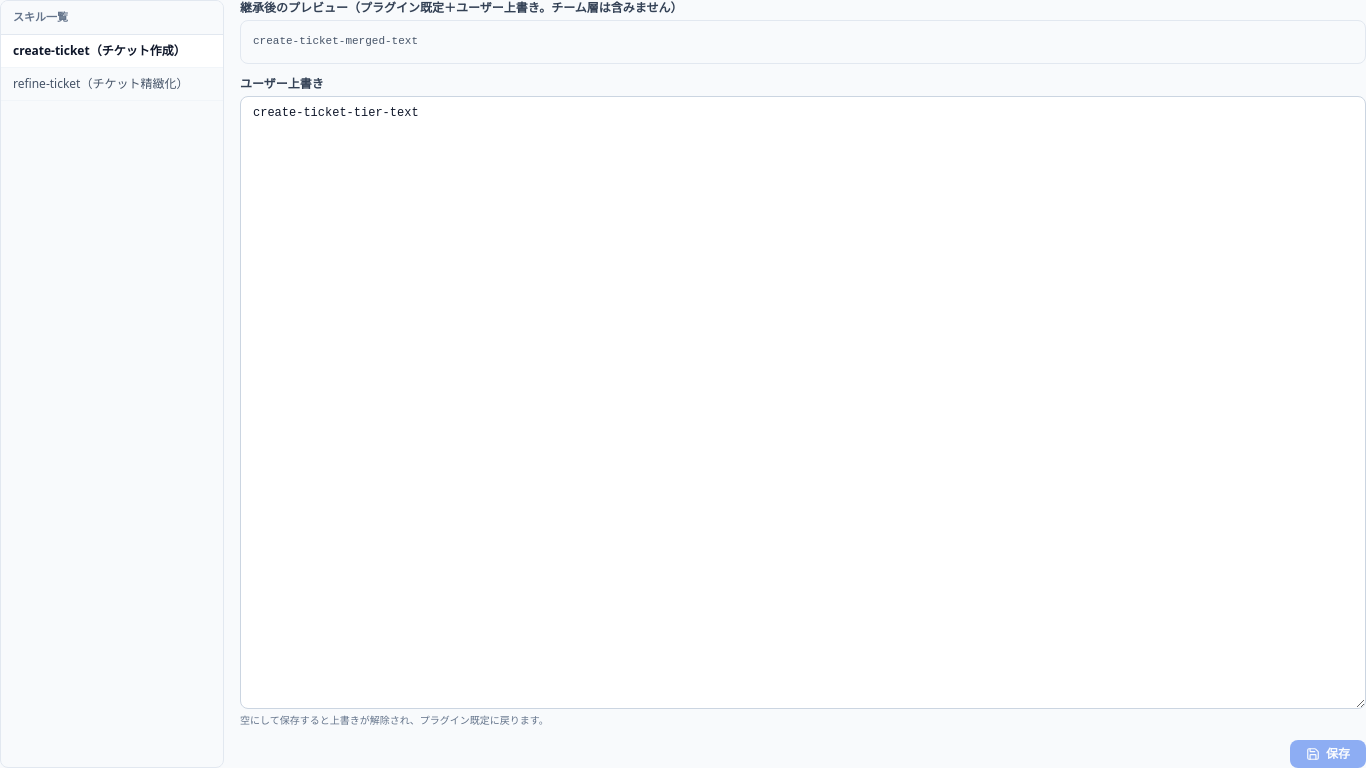
Test: SkillsEditor › switching the selection with unsaved edits › keeps the selection and the edit when the user dismisses the dialog with the cancel button
Step 1. Replace the text in the text box showing "create-ticket-tier-text" with "unsaved edit" → (803, 402), box [240,96,1365,709]
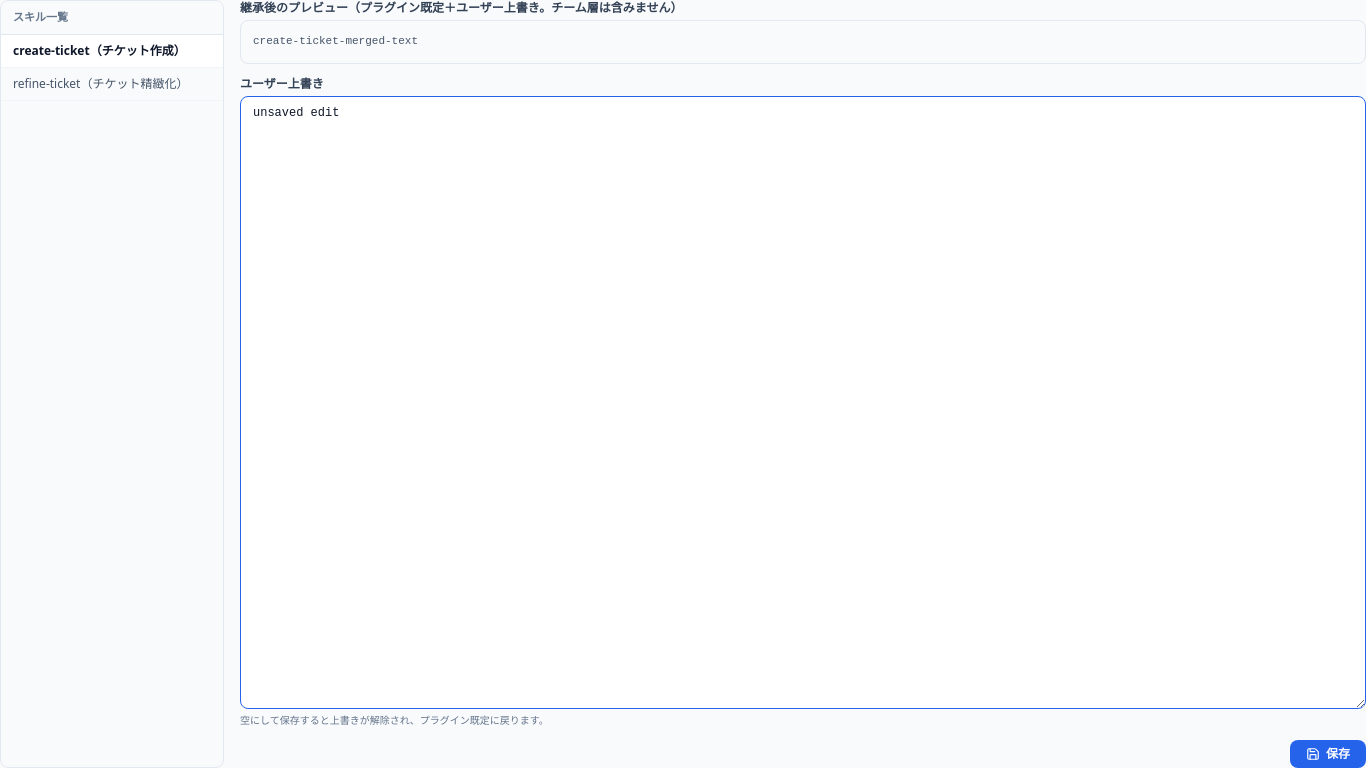
Step 2. Click the button "refine-ticket（チケット精緻化）" → (112, 84), box [1,68,223,100]
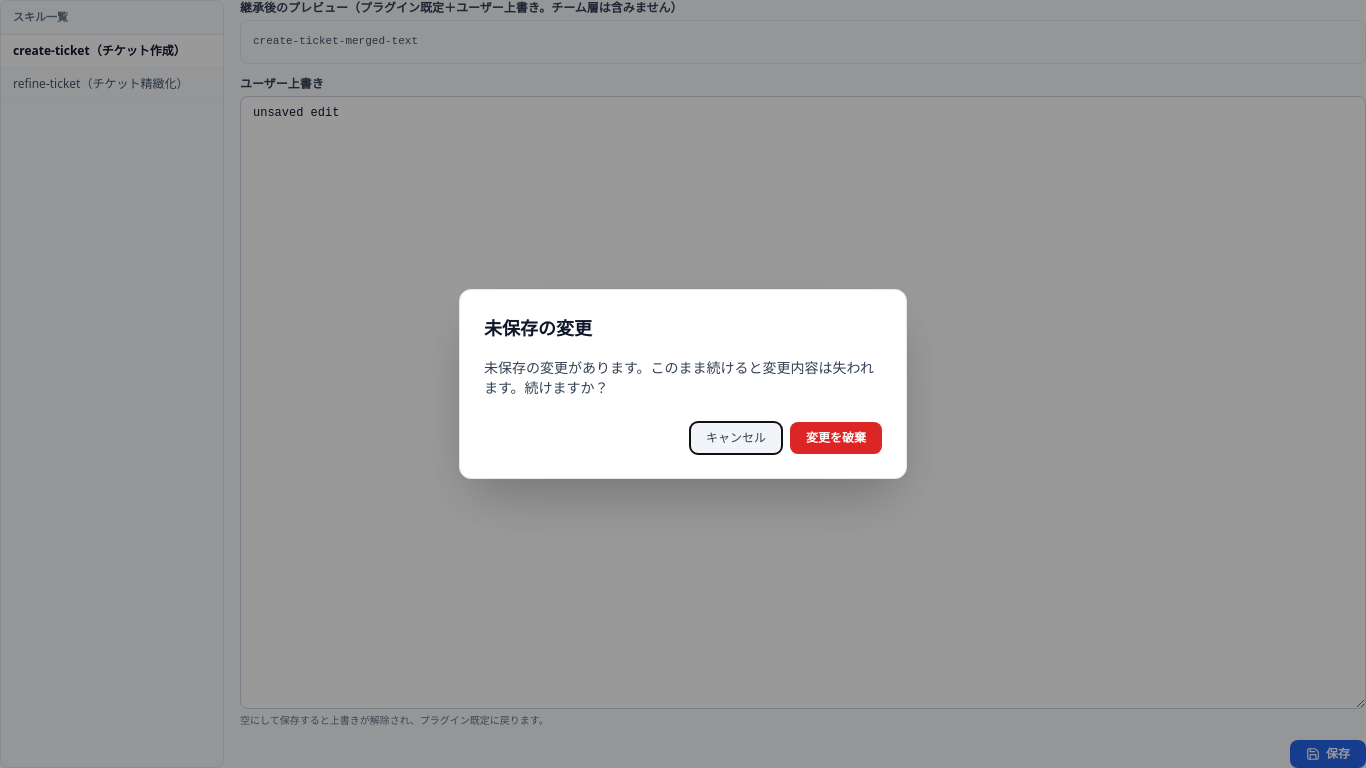
Step 3. Click the button with test id "skill-discard-confirm-cancel" → (736, 438), box [690,422,782,454]
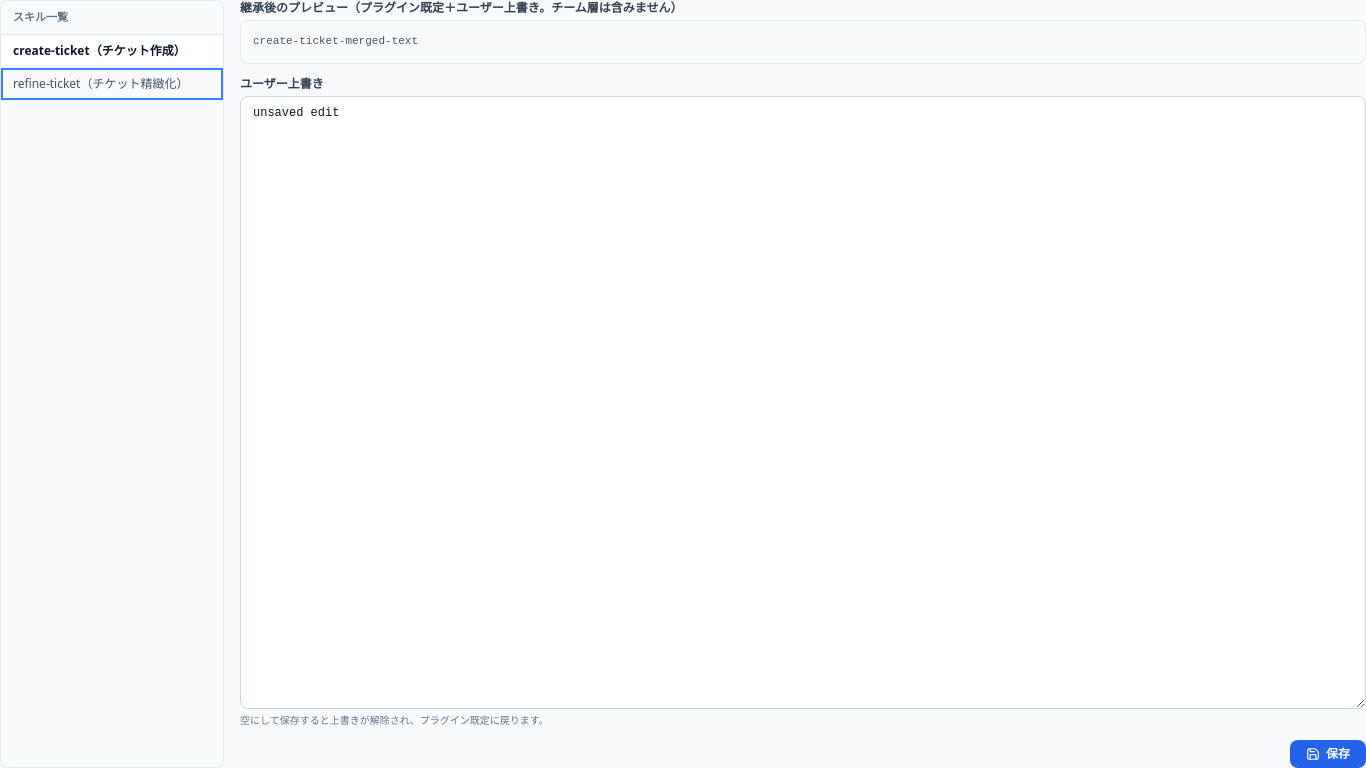
Expected: the dialog with test id "skill-discard-confirm" is gone
